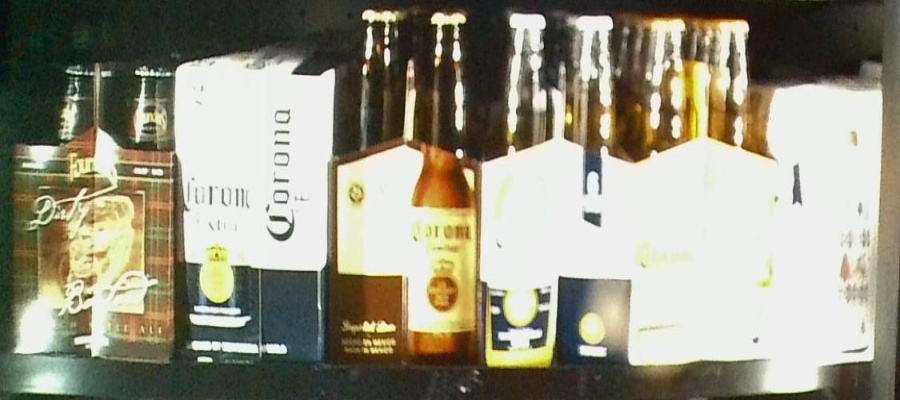bottle: (479, 14, 631, 370), (330, 10, 476, 366), (5, 60, 174, 362), (633, 12, 770, 360), (173, 58, 328, 360), (768, 82, 874, 350)
